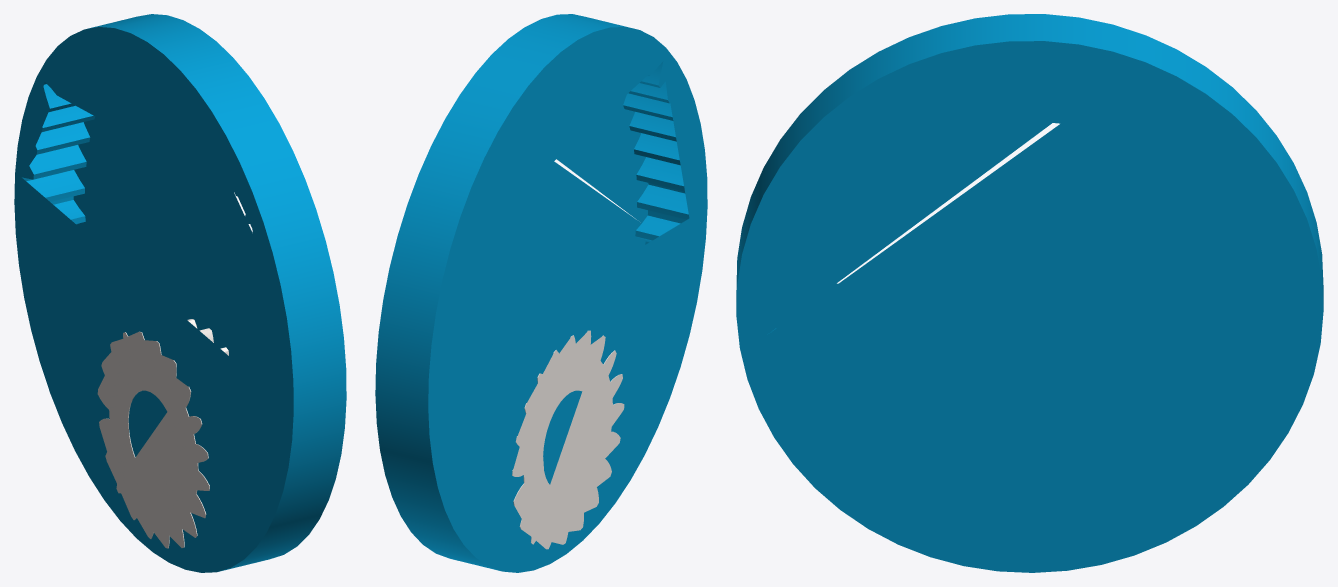
File: internal gear assembly 1.fbx
The picture shows the model from 3 angles, left to right: view 1: azimuth 30°, elevation 25°; view 2: azimuth 150°, elevation 25°; view 3: azimuth 270°, elevation 25°; orthographic projection. The views are drawn at different scales.
Parts seen in each view (by area): view 1: internal spur gear_iso, spur gear_iso; view 2: internal spur gear_iso, spur gear_iso; view 3: internal spur gear_iso.
Boxes of the visible parts, x1,y1,x2,y2 form: internal spur gear_iso: (14,14,346,572); spur gear_iso: (97,319,228,548); internal spur gear_iso: (375,14,707,572); spur gear_iso: (512,330,624,549); internal spur gear_iso: (736,14,1323,572).
Bounding box in the file's own units: 1.21 × 10.99 × 10.99.
